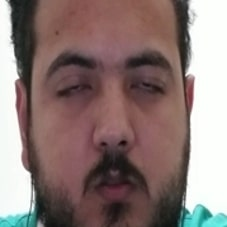drowsy: (42, 46, 176, 208)
